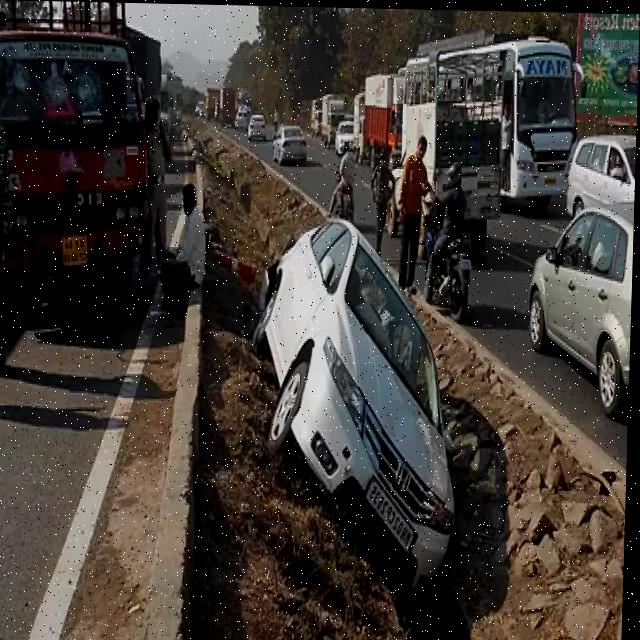plate: (363, 467, 424, 554), (62, 230, 91, 269), (462, 254, 474, 269)
